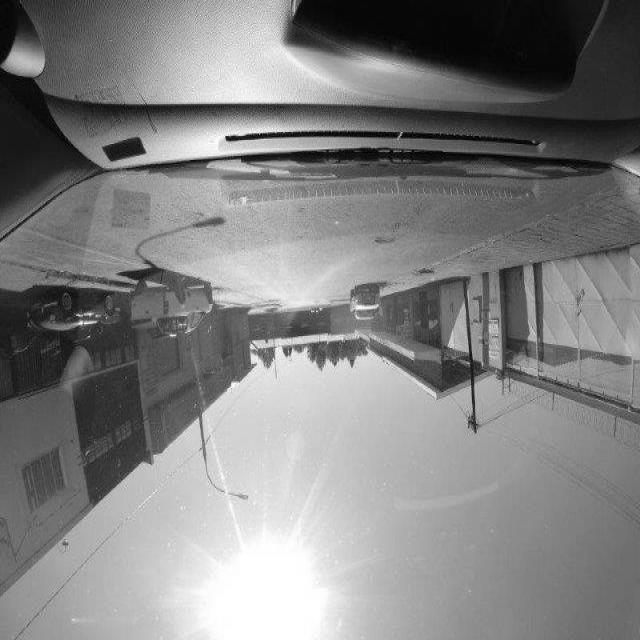lubang: (374, 232, 404, 250)
